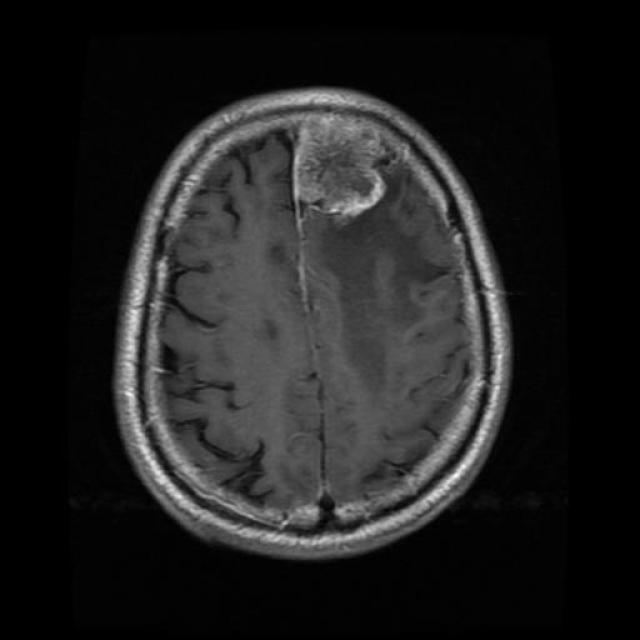meningioma: (292, 115, 391, 219)
